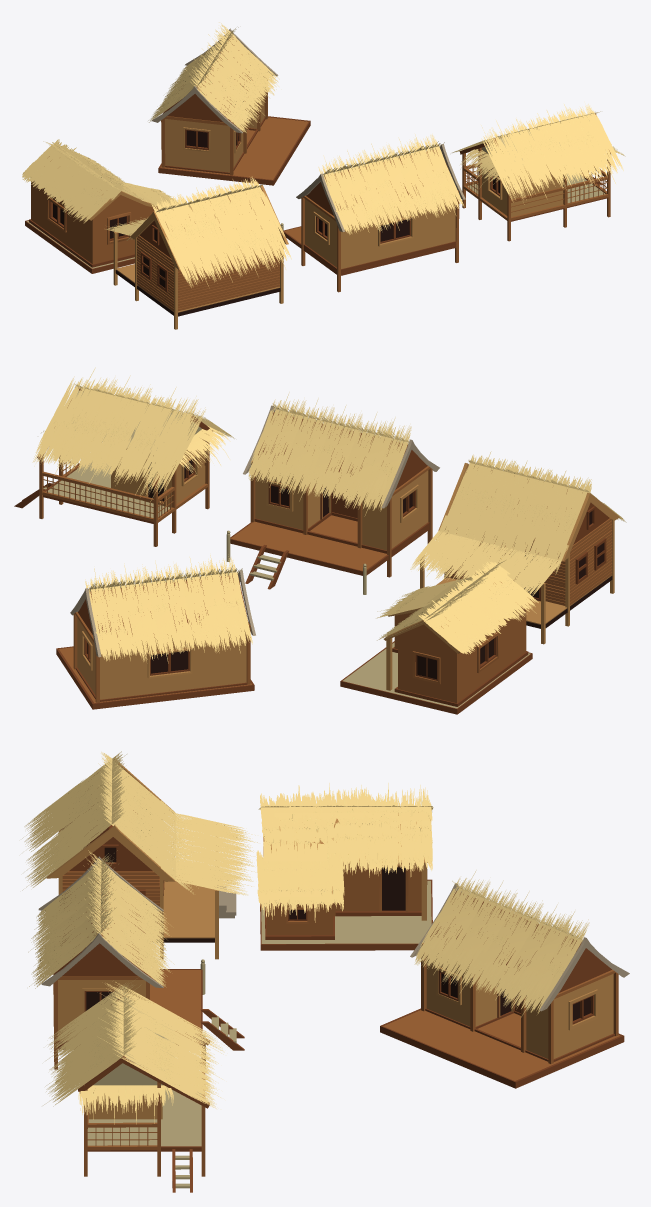
Rendered from cartoon_hut_3d_modal_pack.glb.
The picture shows the model from 3 angles, top to bottom: view 1: azimuth 30°, elevation 25°; view 2: azimuth 150°, elevation 25°; view 3: azimuth 270°, elevation 25°; orthographic projection. The views are drawn at different scales.
Visible parts, largest first — view 1: Object_2; view 2: Object_2; view 3: Object_2.
Boxes of the visible parts, box(x1,y1,x2,y2) form: Object_2: box(22, 22, 625, 329); Object_2: box(14, 367, 626, 714); Object_2: box(22, 751, 629, 1192).
Size of the model in its own units: 5.72 by 1.35 by 4.84.
1 material, 1 textured.
